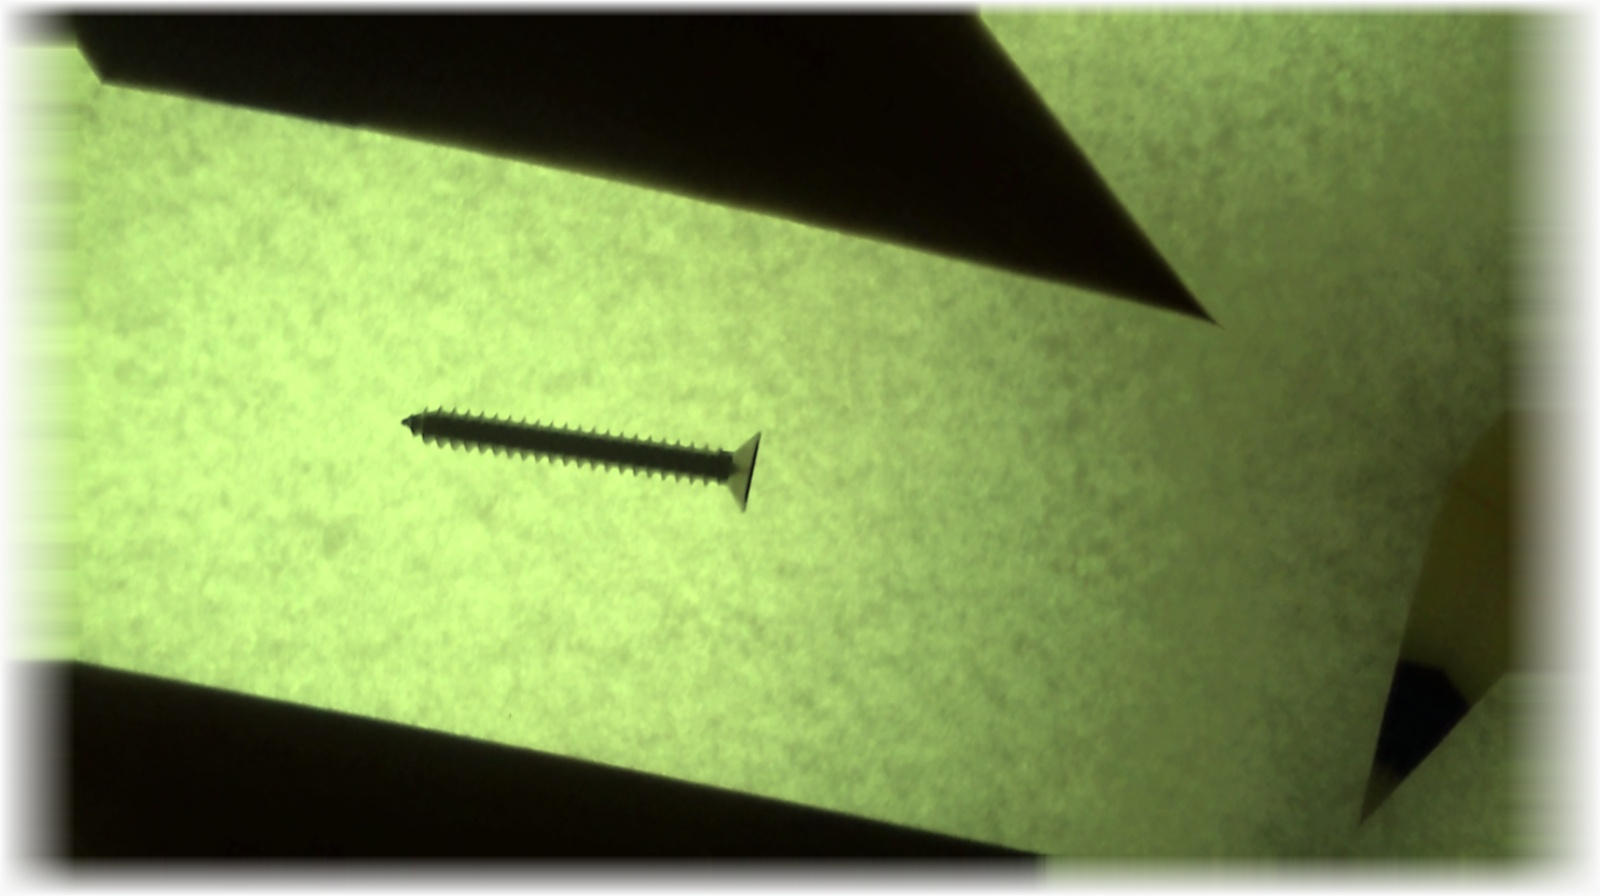S002: (393, 250, 781, 619)
